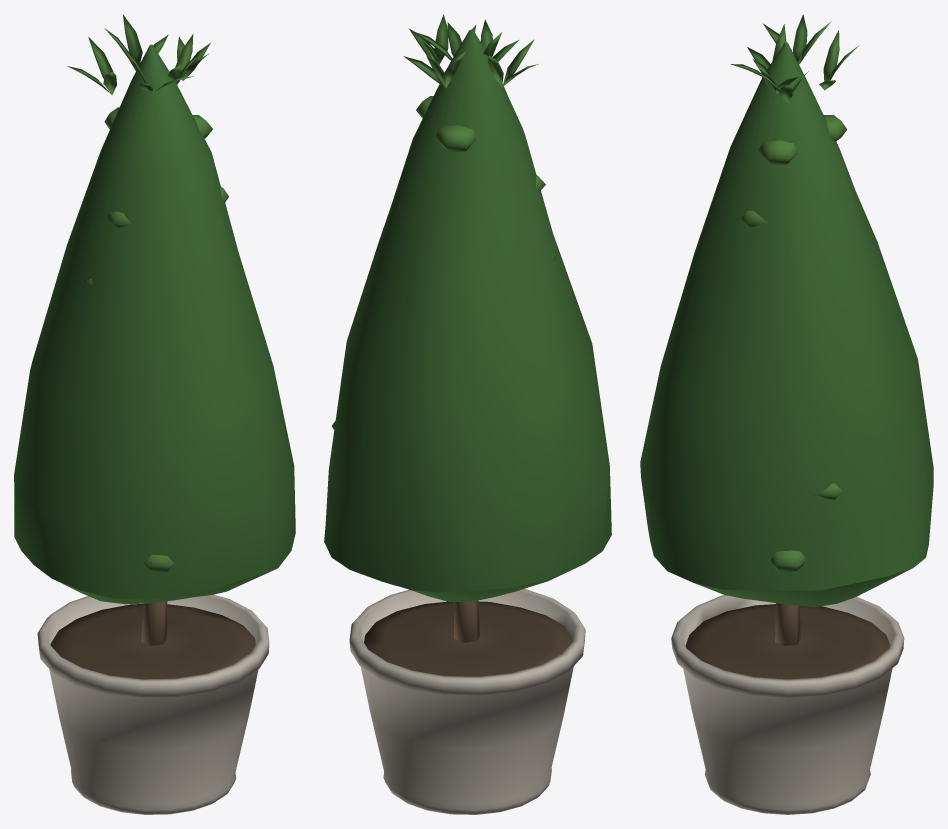
File: topiaryCone.glb
The picture shows the model from 3 angles, left to right: view 1: azimuth 30°, elevation 25°; view 2: azimuth 150°, elevation 25°; view 3: azimuth 270°, elevation 25°; orthographic projection.
Parts seen in each view (by area): view 1: topiaryCone, sprigs; view 2: topiaryCone, sprigs; view 3: topiaryCone, sprigs.
Boxes of the visible parts, <box> form: topiaryCone: <box>14,44,295,814</box>; sprigs: <box>67,14,210,94</box>; topiaryCone: <box>324,29,611,814</box>; sprigs: <box>403,14,538,88</box>; topiaryCone: <box>640,42,933,814</box>; sprigs: <box>730,14,859,103</box>.
Size of the model in its own units: 0.6436 by 1.81 by 0.65.
